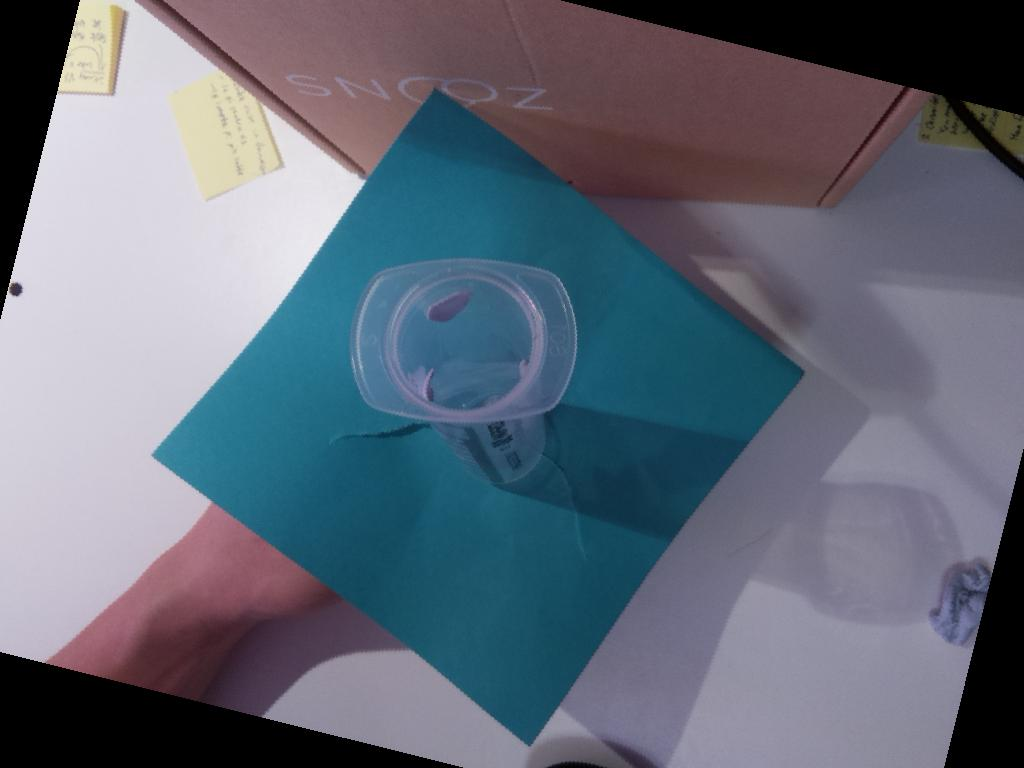dirty: (348, 259, 578, 423)
